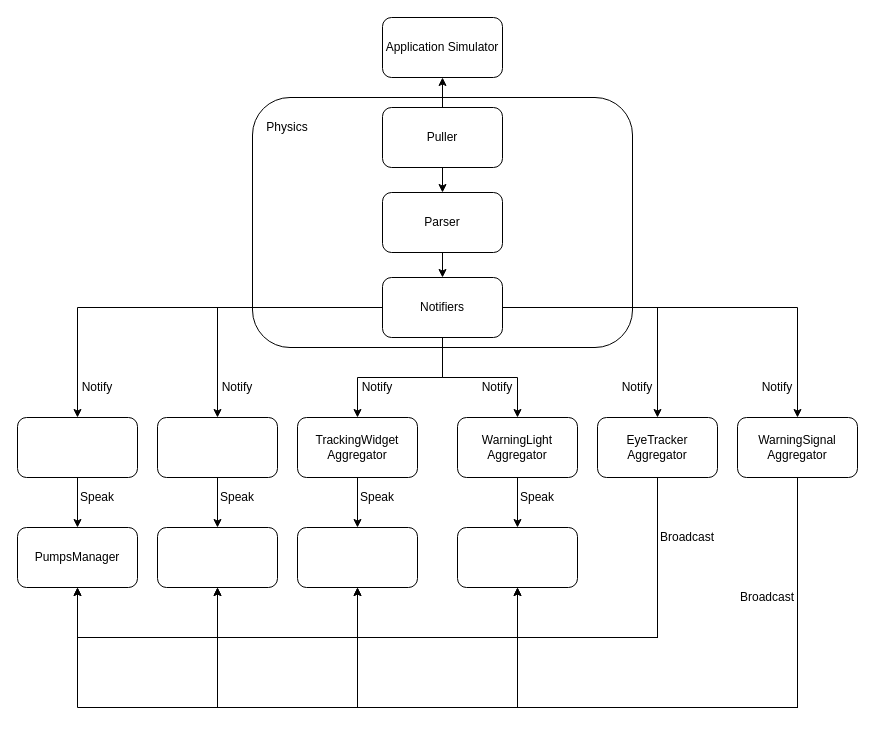
Image size: 875x733. Some labels were removed from this diagram. The shapes that lost their labels are listed below. From the top down, each one's centre as x and y in pixels, then its label:
At (x=77, y=447): "PumpsAggregator".
At (x=217, y=447): "ScalesAggregator".
At (x=217, y=557): "ScalesManager".
At (x=357, y=557): "WarningLight Manager".
At (x=517, y=557): "TrackingWidget Manager".
